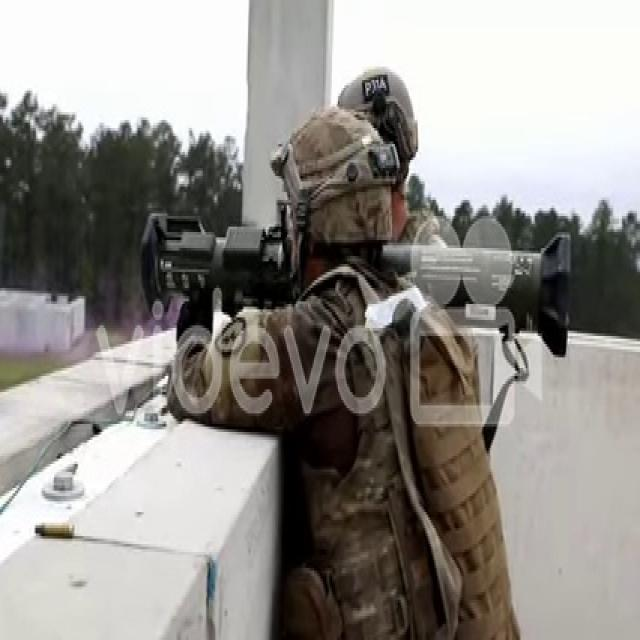bazooka: (136, 205, 576, 367)
